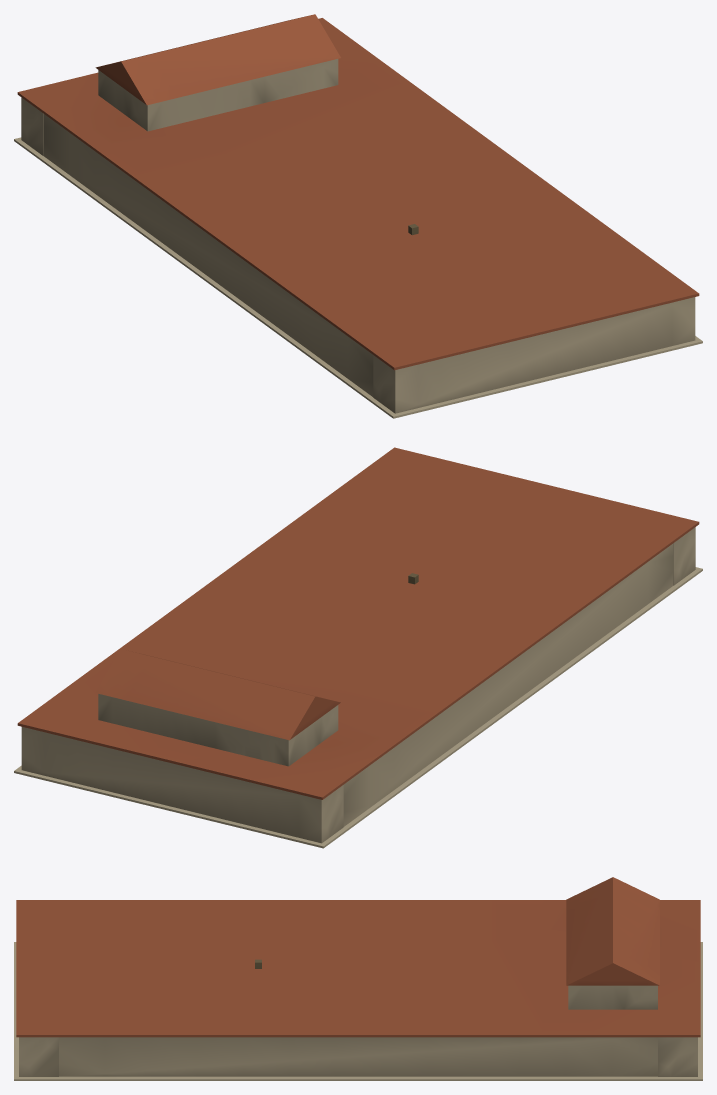
Rendered from stoa-basilica.glb.
3 renders of one model, top to bottom at view 1: azimuth 30°, elevation 25°; view 2: azimuth 150°, elevation 25°; view 3: azimuth 270°, elevation 25°, orthographic. The views are drawn at different scales.
Visible parts, largest first — view 1: p1_colonnade, p0_court, p2_hall; view 2: p1_colonnade, p0_court, p2_hall; view 3: p1_colonnade, p0_court, p2_hall.
Boxes of the visible parts, left/top/right/bottom form: p1_colonnade: left=17, top=18, right=699, bottom=370; p0_court: left=14, top=97, right=702, bottom=418; p2_hall: left=95, top=14, right=418, bottom=235; p1_colonnade: left=17, top=447, right=699, bottom=799; p0_court: left=14, top=527, right=702, bottom=848; p2_hall: left=95, top=573, right=418, bottom=766; p1_colonnade: left=16, top=900, right=700, bottom=1037; p0_court: left=14, top=942, right=702, bottom=1080; p2_hall: left=255, top=877, right=659, bottom=1009.
Size of the model in its own units: 65 by 20.4 by 138.
